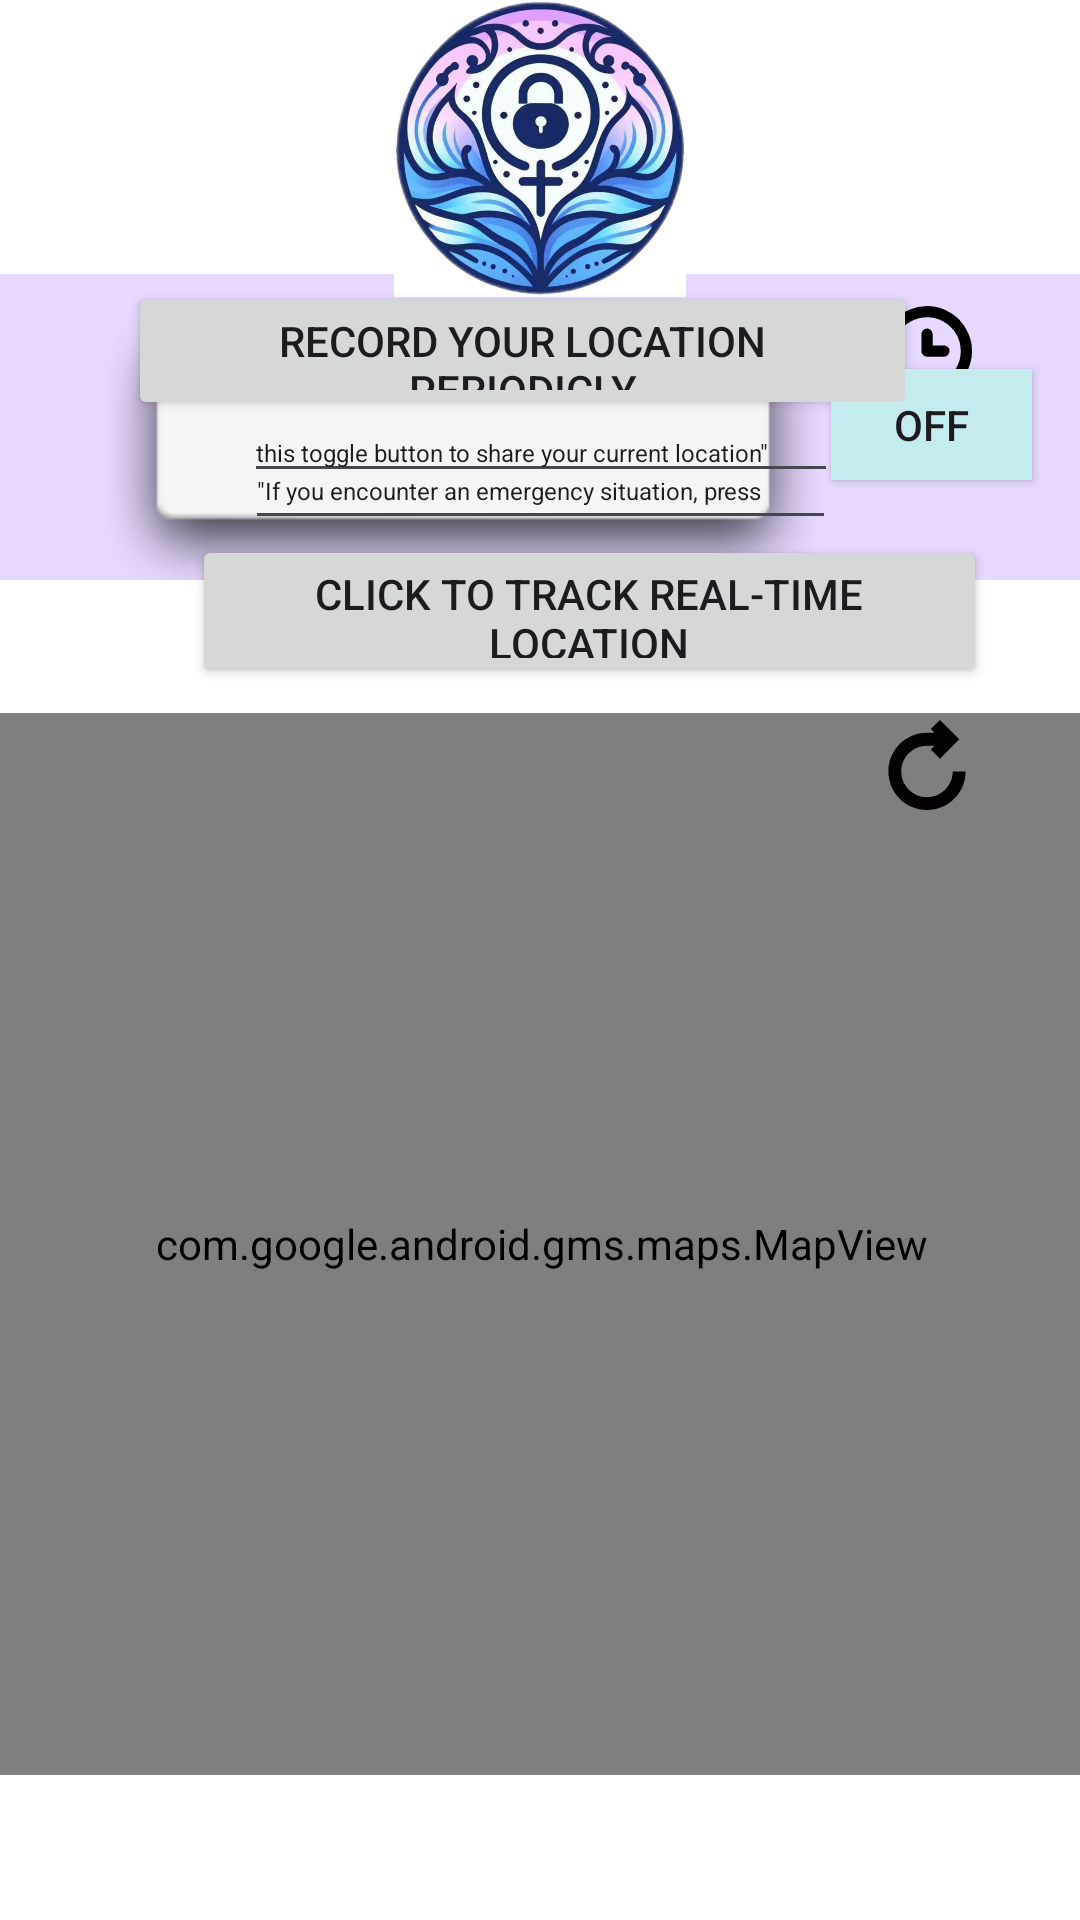

Named icons in this screenshot (1080 x 1920) and their bounding boxes, (x1, y1, x2, y2):
update arrow: (888, 720, 966, 810)
